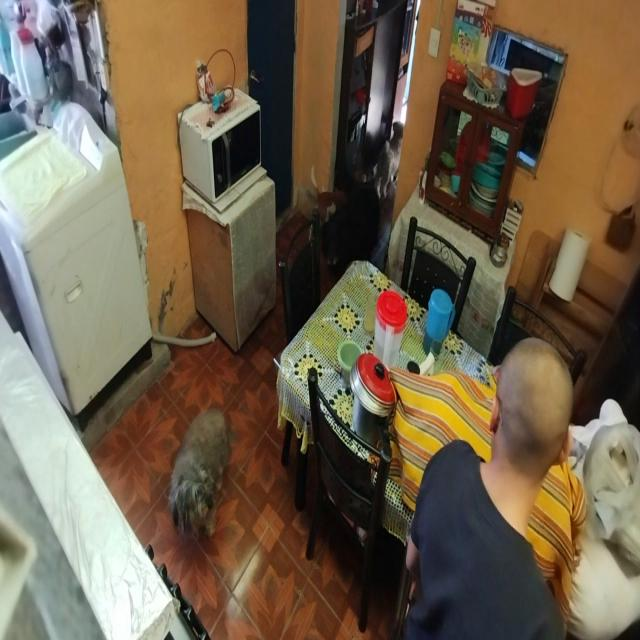adult: (407, 343, 576, 640)
